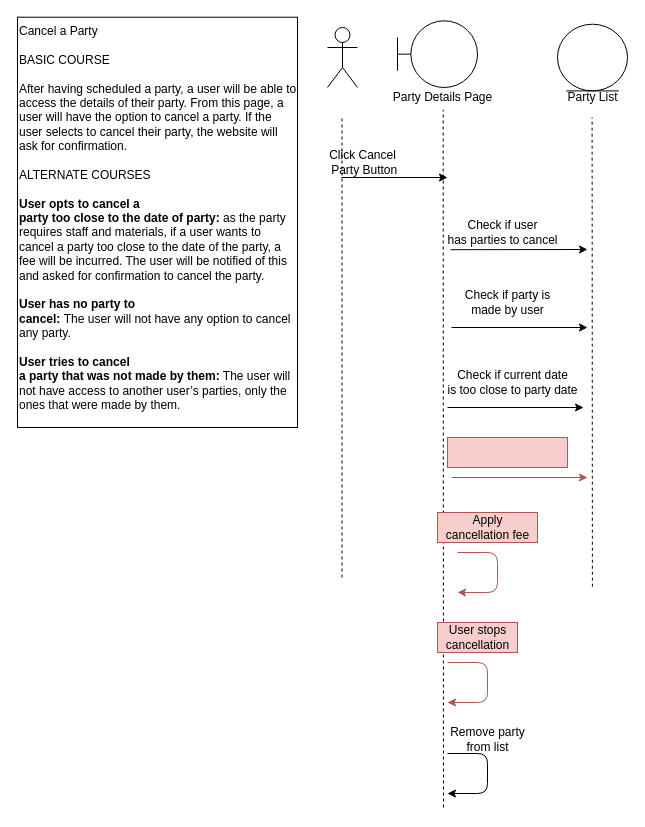
Some shapes in this 645 by 827 pixel diagram are drawn without their labels. The centre of each missing label's shape, as x and y in pixels:
Display cancellation fee confirmation: the point at 507,452
User: the point at 342,57
